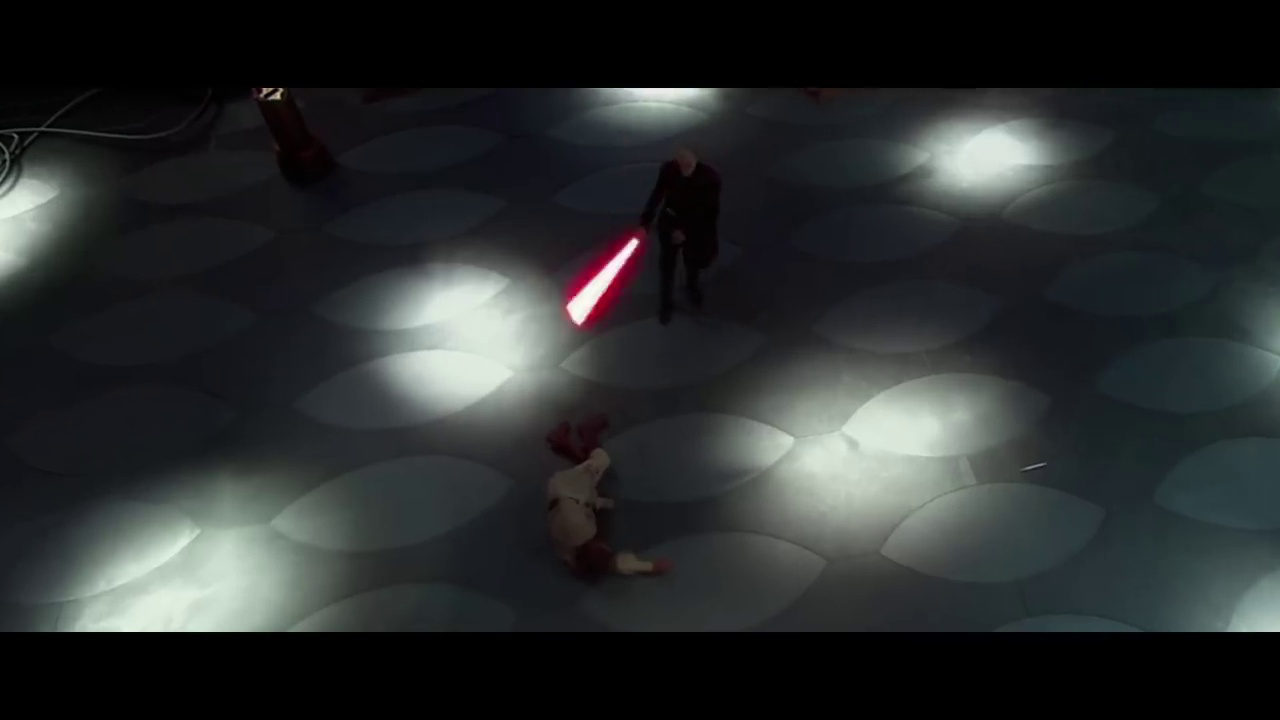lightsaber: (561, 232, 643, 331)
